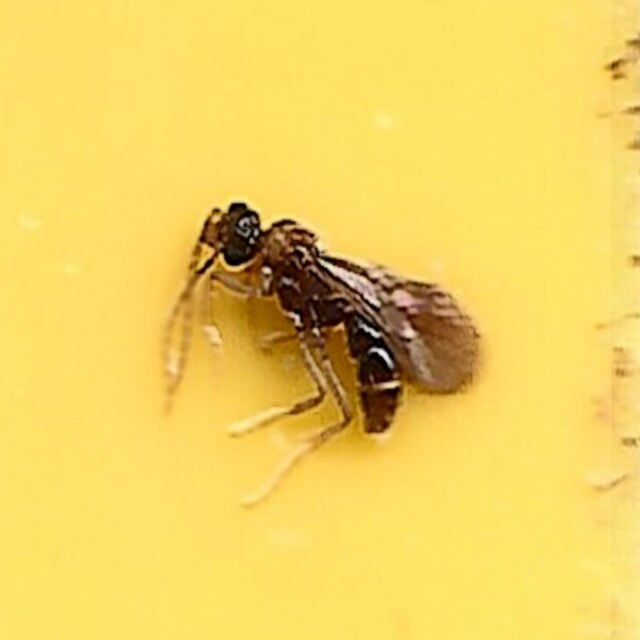Hymenoptera: (158, 201, 482, 439)
